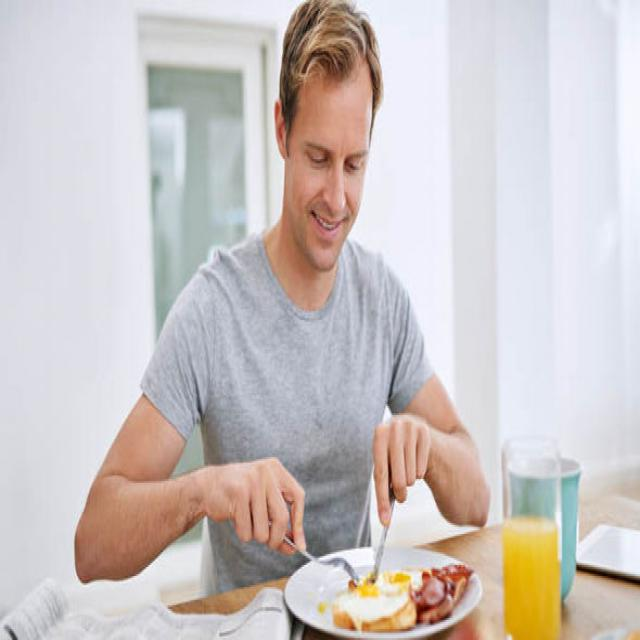eating-person: (66, 0, 500, 616)
